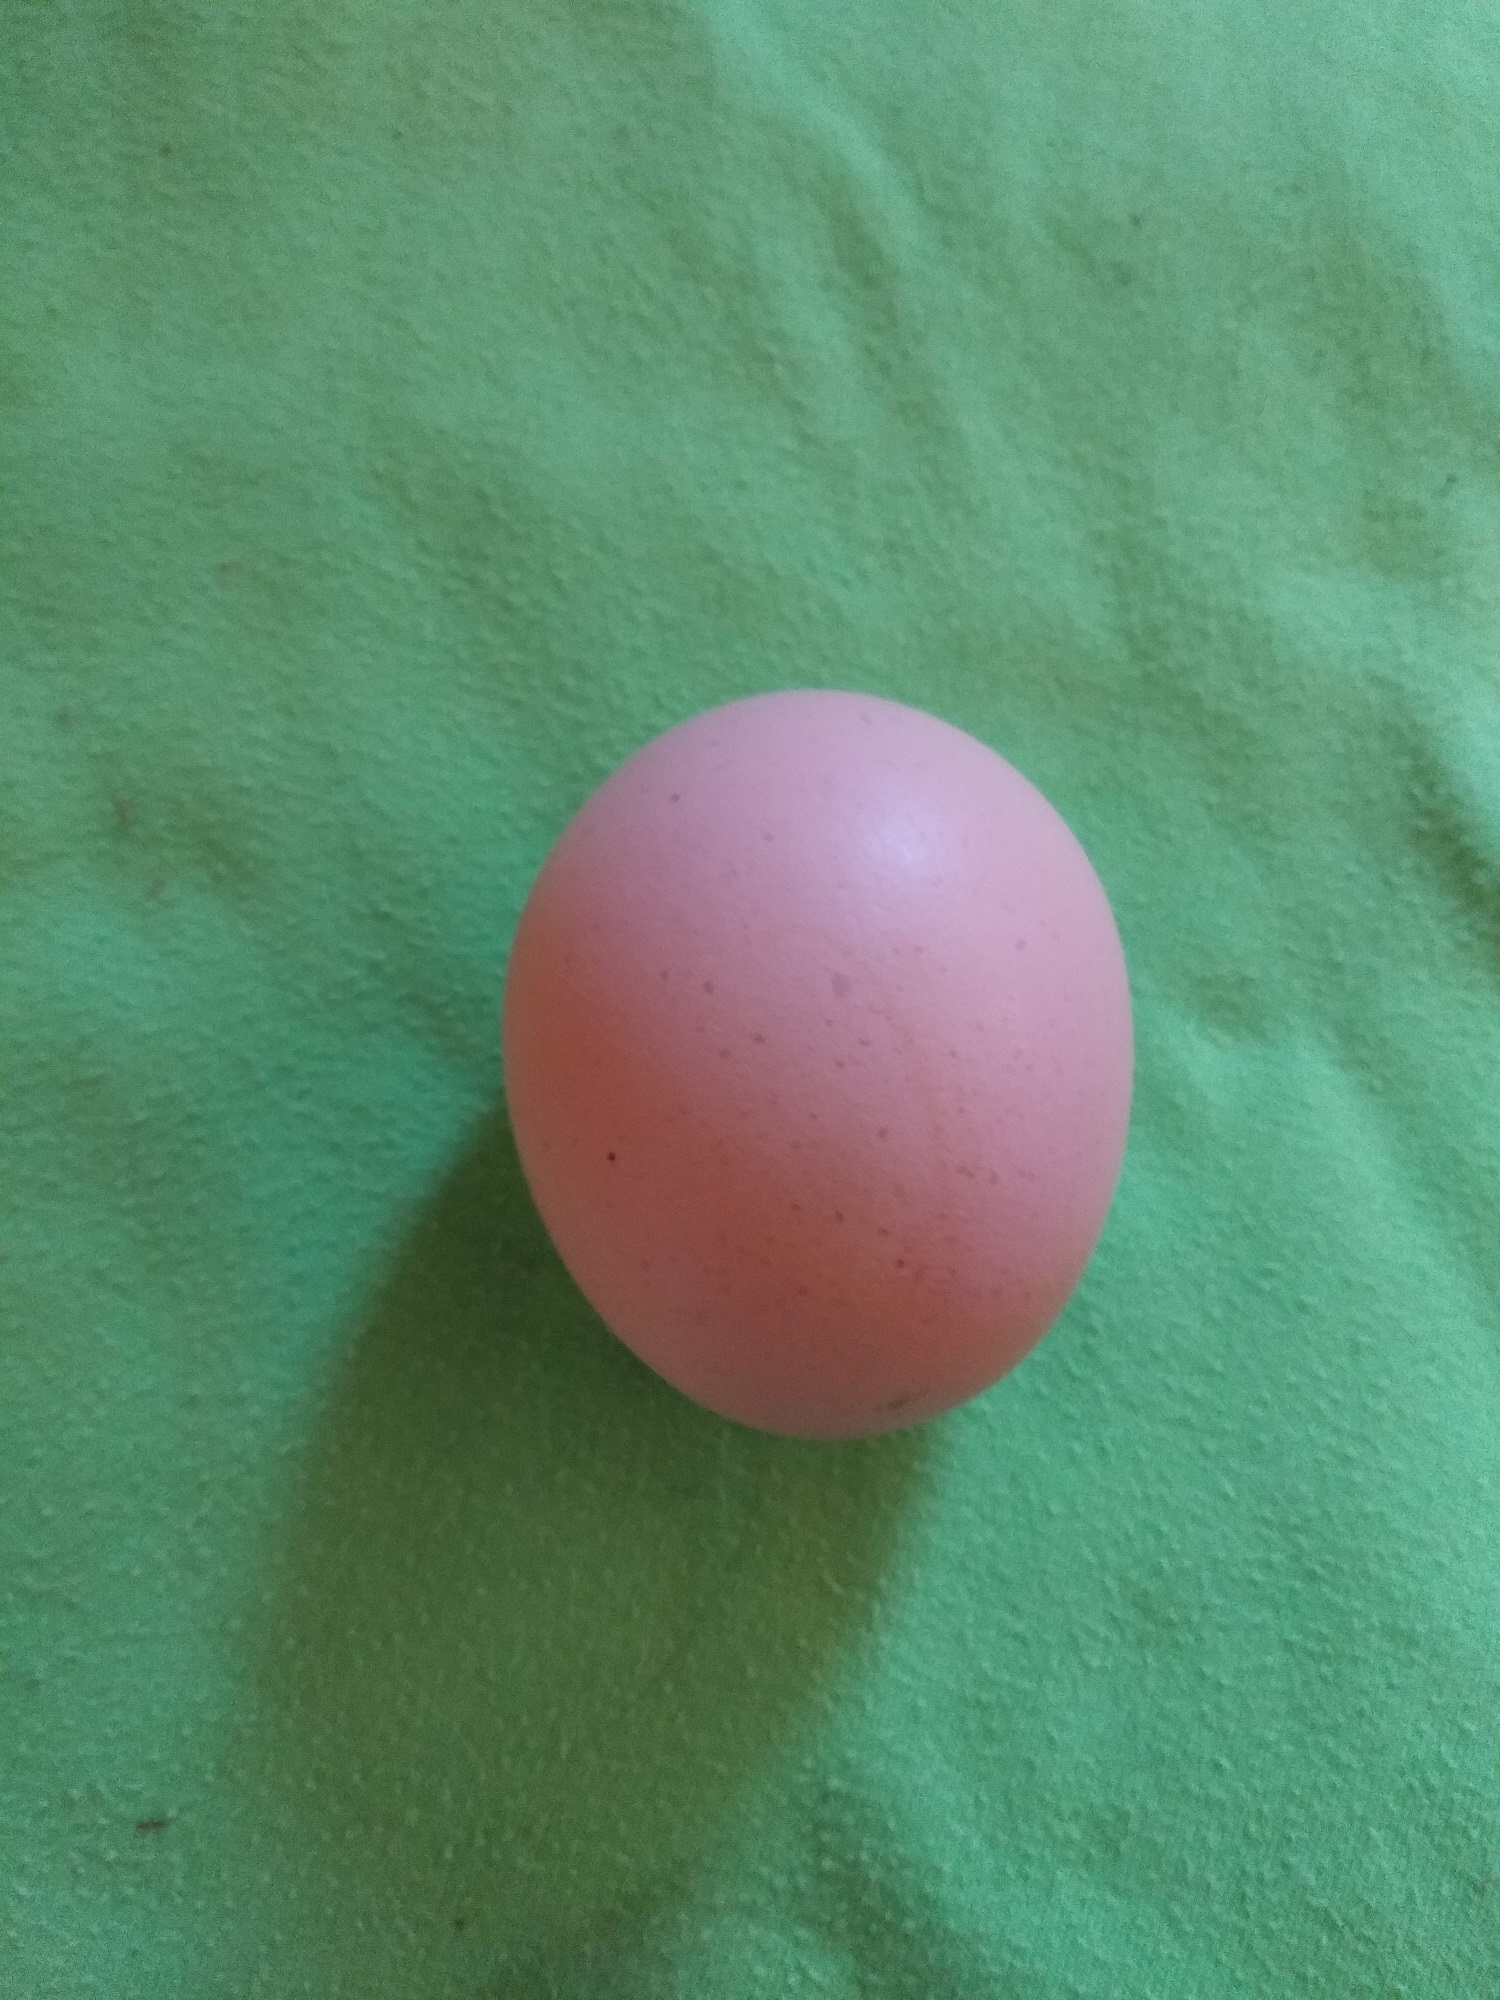Female: (496, 683, 1141, 1446)
